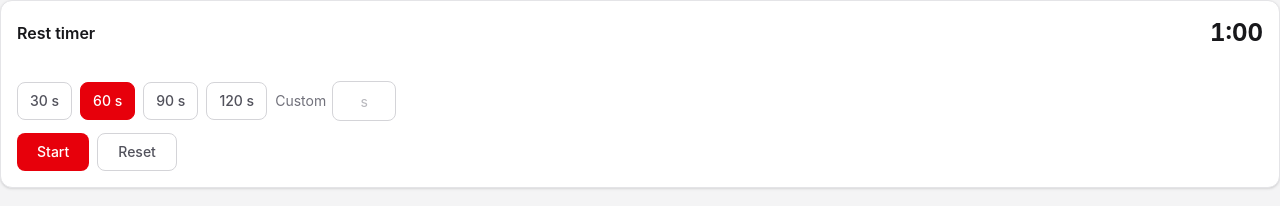
Test: custom seconds entry › accepts a value whose first digit is below the 5-second minimum (e.g. 45)
Each keystroke must survive in the field — committing waits for blur.
In the field named "Custom seconds": (364, 101) [332,81,396,121], type "4"
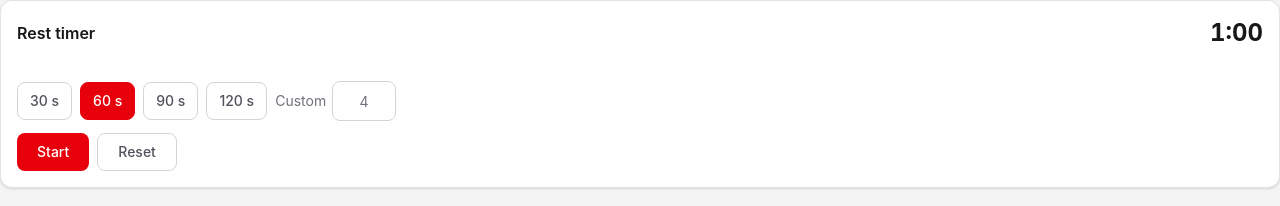
Replace the text in the field named "Custom seconds" with "45": (364, 101) [332,81,396,121]
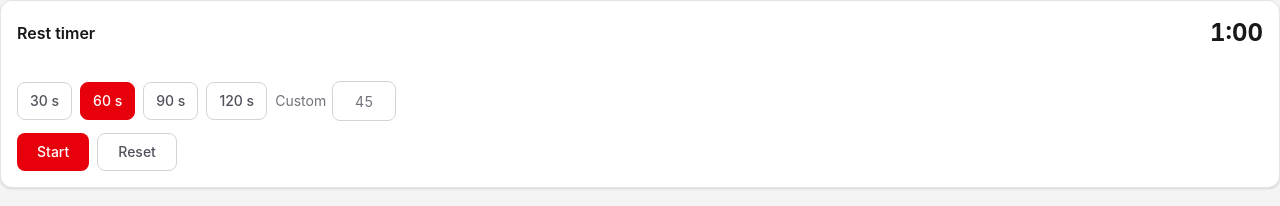
Leave the field named "Custom seconds", box [332,81,396,121]
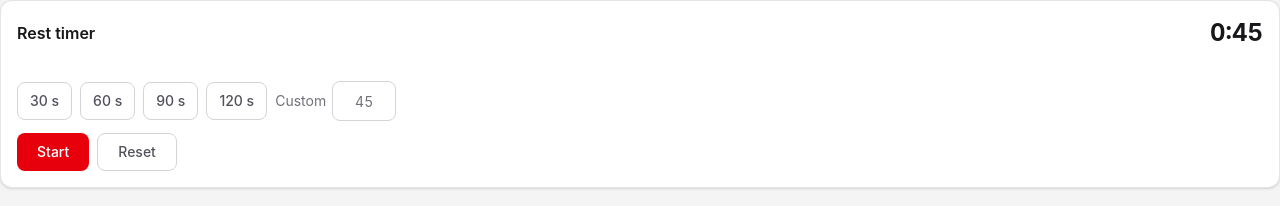
Result: the text named "Time remaining" reads "0:45" at [1210,18,1263,47]
